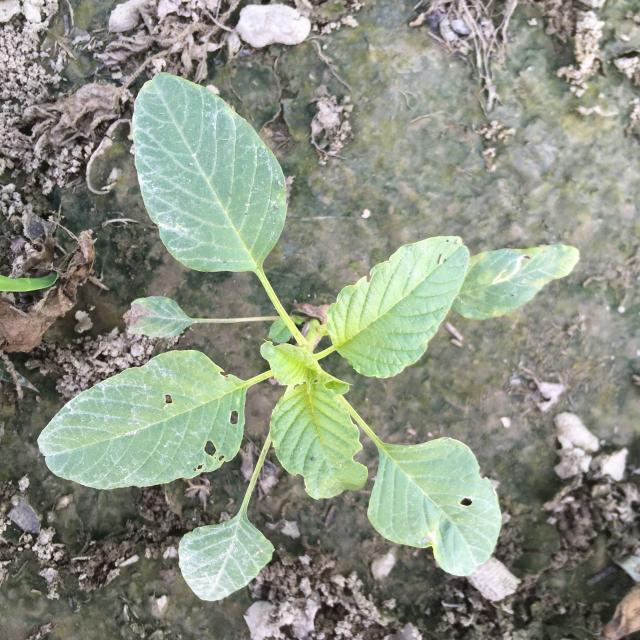PalmerAmaranth: (38, 71, 580, 602)
